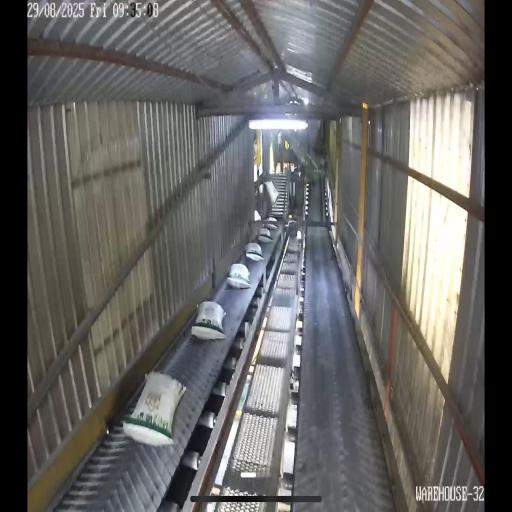c-belt-sack-count: (123, 372, 186, 446), (192, 301, 225, 339), (227, 263, 250, 288), (246, 242, 263, 261), (258, 228, 271, 242), (264, 222, 278, 229)
